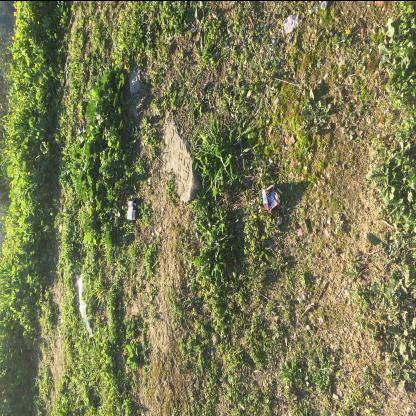karton: (262, 184, 280, 212), (126, 198, 136, 220)
